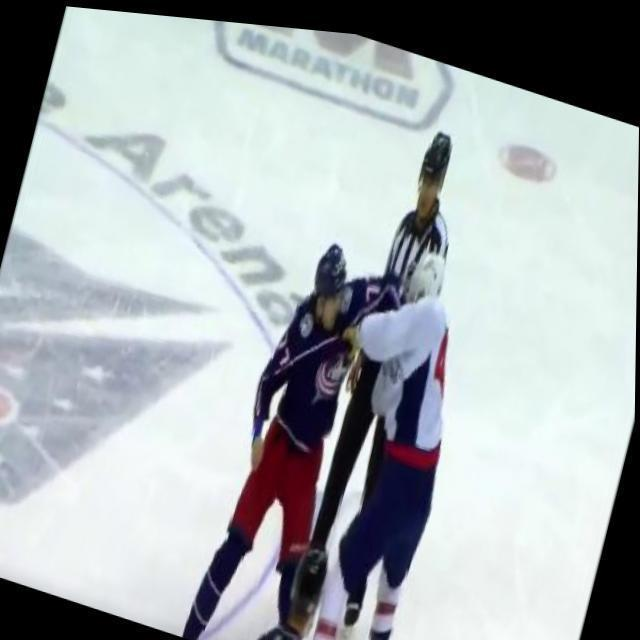fight: (190, 194, 492, 640)
